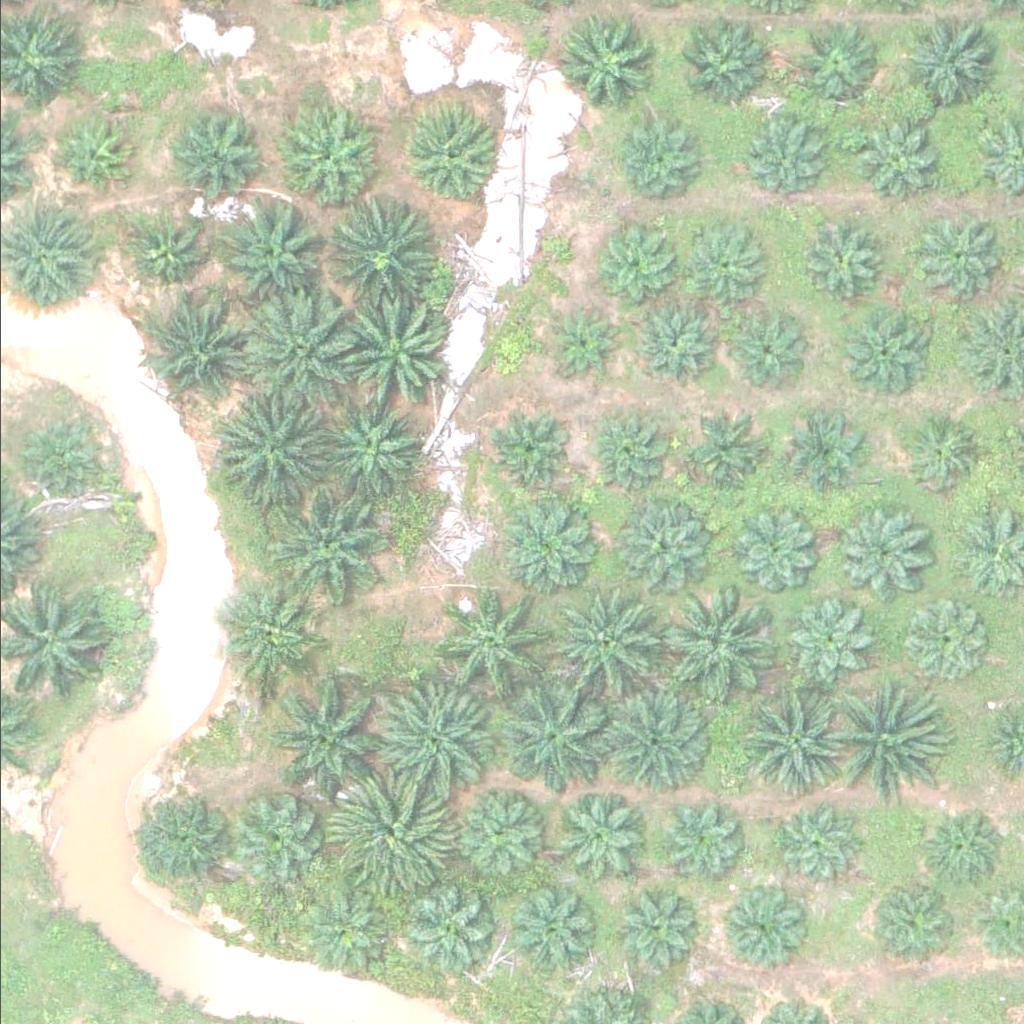Kelapa_Sawit: (214, 389, 328, 502), (599, 678, 713, 791), (336, 777, 449, 890), (823, 685, 936, 798), (502, 682, 615, 795), (319, 196, 432, 309), (374, 689, 488, 801), (273, 678, 386, 790), (273, 489, 386, 601), (240, 297, 353, 409), (730, 683, 843, 795), (436, 590, 549, 702), (545, 590, 658, 702), (657, 586, 770, 698), (336, 296, 449, 408), (222, 197, 323, 297), (495, 878, 596, 978), (602, 495, 703, 595), (321, 396, 422, 496), (898, 15, 999, 115), (666, 11, 767, 111), (550, 12, 651, 112), (134, 788, 234, 888), (213, 585, 313, 685), (148, 295, 248, 395), (280, 108, 380, 208), (450, 788, 550, 888), (546, 792, 646, 892), (497, 494, 597, 594), (395, 106, 495, 206), (239, 792, 327, 880), (13, 408, 101, 496), (175, 105, 263, 193), (865, 875, 953, 963), (304, 889, 392, 977), (655, 798, 743, 886), (829, 507, 917, 595), (728, 507, 816, 595), (848, 114, 936, 202), (746, 107, 834, 195), (798, 209, 886, 297), (843, 307, 931, 395), (480, 406, 568, 494), (897, 408, 985, 496), (896, 597, 984, 685), (917, 804, 1005, 891), (769, 797, 857, 884), (712, 886, 800, 973), (396, 887, 484, 974), (617, 882, 705, 969), (611, 114, 699, 201), (594, 224, 682, 311), (679, 220, 767, 307), (915, 211, 1003, 298), (718, 305, 806, 392), (634, 306, 722, 393), (590, 404, 678, 491), (687, 412, 775, 499), (784, 404, 872, 491), (783, 596, 871, 683), (793, 19, 881, 106), (549, 307, 625, 382), (56, 117, 132, 192), (131, 212, 206, 287)
